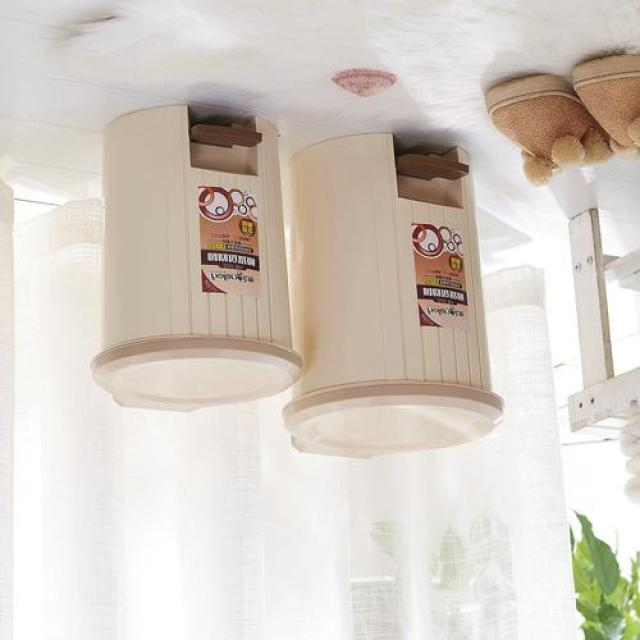dustbin: (276, 128, 508, 464), (86, 99, 306, 418)
